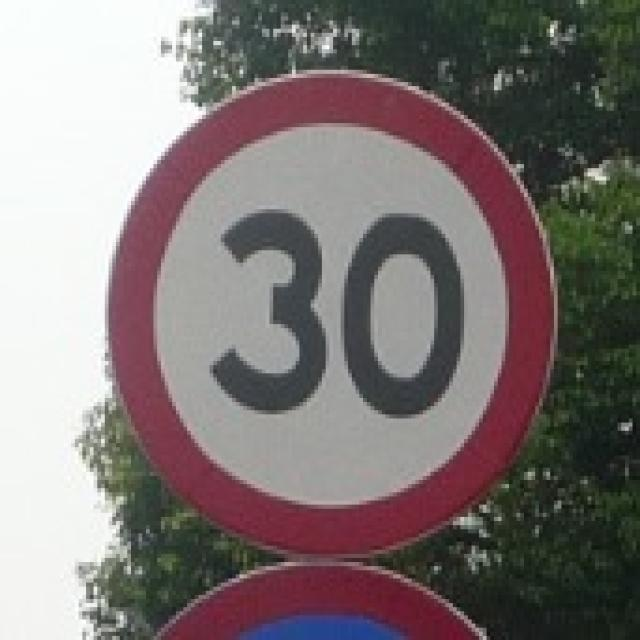Speed Limit -30-: (206, 202, 472, 432)
